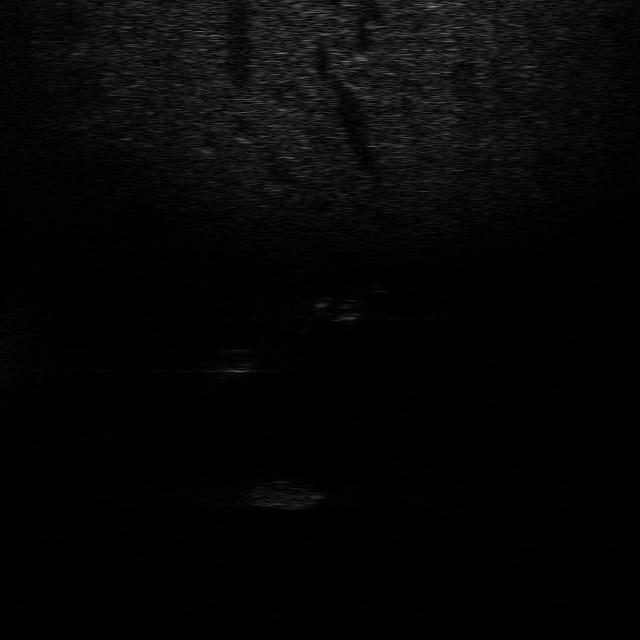ball: (300, 276, 396, 337)
circle cage: (211, 346, 260, 378)
human body: (309, 276, 389, 334)
